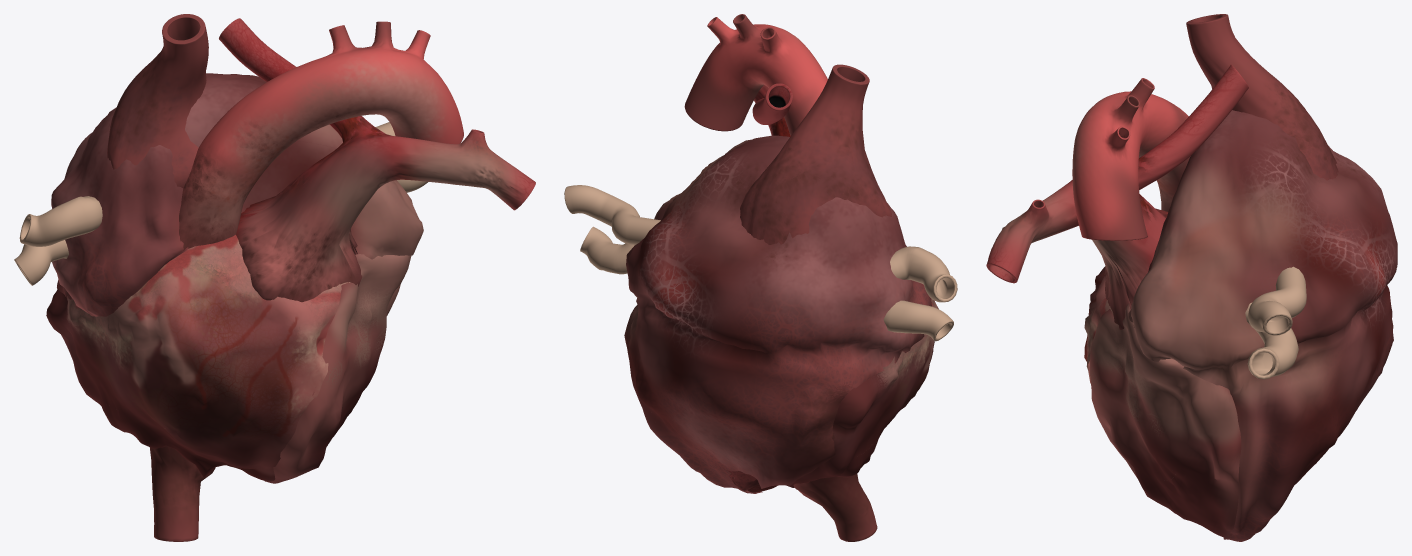
File: To sketchfab 15.fbx
The picture shows the model from 3 angles, left to right: view 1: azimuth 30°, elevation 25°; view 2: azimuth 150°, elevation 25°; view 3: azimuth 270°, elevation 25°; orthographic projection. The views are drawn at different scales.
Parts seen in each view (by area): view 1: Object002, Box002, Line002, Line001, Object001, Line003, Line010, Line8, Line007; view 2: Box002, Line003, Line001, Object002, Line010, Line009, Line8, Line007, Line002, Line008; view 3: Box002, Object001, Line001, Line002, Line003, Line009, Line008, Object002.
Part boxes in pixels (<box>): Object002: <box>46,235,350,483</box>; Box002: <box>51,73,423,481</box>; Line002: <box>219,18,535,302</box>; Line001: <box>179,21,463,250</box>; Object001: <box>265,254,411,483</box>; Line003: <box>107,14,208,187</box>; Line010: <box>150,446,215,541</box>; Line8: <box>19,196,102,246</box>; Line007: <box>14,240,68,285</box>; Box002: <box>624,135,931,493</box>; Line003: <box>740,64,891,244</box>; Line001: <box>684,14,827,135</box>; Object002: <box>726,299,938,492</box>; Line010: <box>793,473,877,541</box>; Line009: <box>564,185,660,244</box>; Line8: <box>890,246,957,302</box>; Line007: <box>883,300,953,341</box>; Line002: <box>752,83,792,136</box>; Line008: <box>580,226,634,274</box>; Box002: <box>1128,110,1397,541</box>; Object001: <box>1089,303,1241,537</box>; Line001: <box>1072,78,1190,240</box>; Line002: <box>986,64,1248,329</box>; Line003: <box>1186,14,1338,180</box>; Line009: <box>1248,266,1306,335</box>; Line008: <box>1245,302,1298,379</box>; Object002: <box>1084,266,1113,383</box>.
Size of the model in its own units: 535 by 630 by 467.
